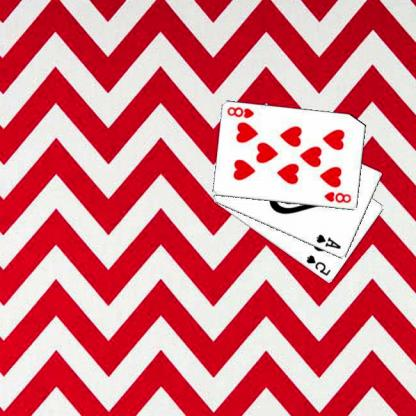5S: (306, 252, 334, 277)
8H: (323, 189, 355, 204), (227, 104, 257, 120)
AS: (316, 232, 344, 250)
